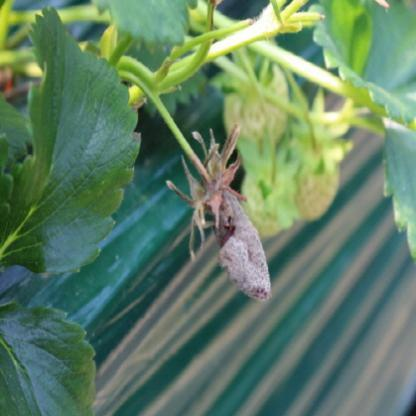Strawberry_Gray_Mold: (165, 123, 272, 302)
